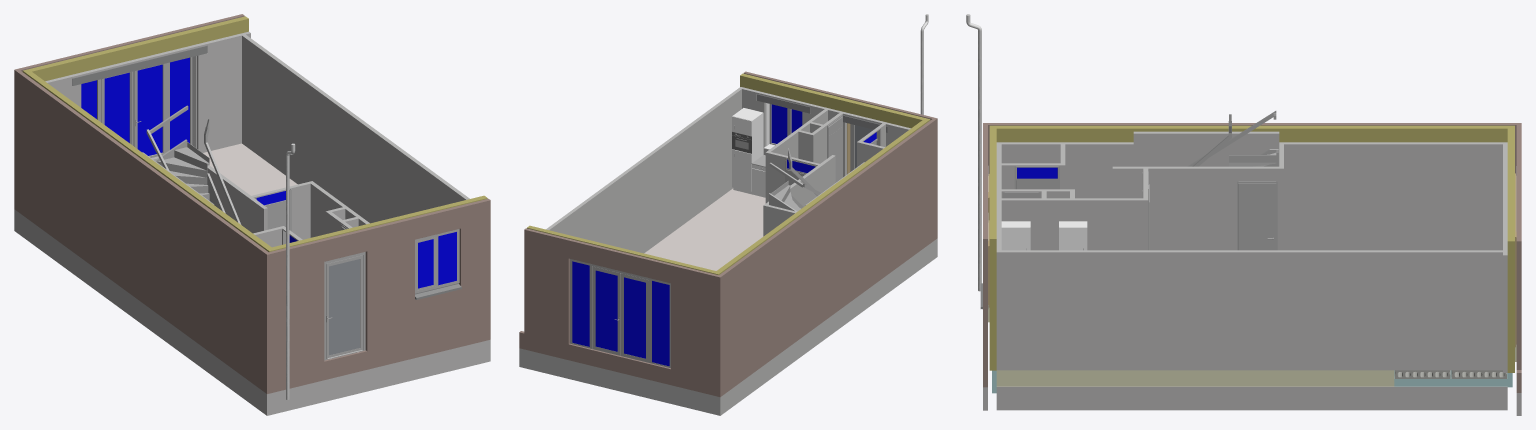
3 renders of one model, left to right at view 1: azimuth 30°, elevation 25°; view 2: azimuth 150°, elevation 25°; view 3: azimuth 270°, elevation 25°, orthographic. The views are drawn at different scales.
Parts seen in each view (by area): view 1: 332240221_metselwerk_oranje_100, 332240121_metselwerk_oranje_100, 332239521_kalkzandsteen_100, 332433321_metselwerk_oranje_100, 332428421_kalkzandsteen_100, 332254521_kalkzandsteen_100, 332255321_kalkzandsteen_100, 332255021_kalkzandsteen_100, 332255621_metselwerk_oranje_100, 332255721_metselwerk_oranje_100, 3324305buitendraaiend_alcoa, 332428621_isolatie_mineraal_150 (+23 smaller); view 2: 332240221_metselwerk_oranje_100, 332239521_kalkzandsteen_100, 332428721_metselwerk_oranje_100, 332449943_zandcementvloer_70, 332433321_metselwerk_oranje_100, 332433921_kalkzandsteen_100, 332433821_metselwerk_oranje_100, 3324305buitendraaiend_alcoa, 332255021_kalkzandsteen_100, 332255721_metselwerk_oranje_100, 332239921_isolatie_mineraal_150, 3324651keukenkast_met_combimagnetron (+23 smaller); view 3: 332239521_kalkzandsteen_100, 332239721_kalkzandsteen_100, 332254521_kalkzandsteen_100, 332433521_kalkzandsteen_100, 332453922_kalkzandsteen_100, 332255121_kalkzandsteen_100, 333394723_kanaalplaatvloer_260, 332454122_kalkzandsteen_100, 332240021_isolatie_mineraal_150, 332436221_kalkzandsteen_100, 3324548opdek, 332433421_isolatie_mineraal_150 (+18 smaller).
Part boxes in pixels (<box>): 332240221_metselwerk_oranje_100: <box>69,109,268,373</box>; 332240121_metselwerk_oranje_100: <box>265,198,490,375</box>; 332239521_kalkzandsteen_100: <box>295,73,469,223</box>; 332433321_metselwerk_oranje_100: <box>16,70,73,230</box>; 332428421_kalkzandsteen_100: <box>45,34,241,152</box>; 332254521_kalkzandsteen_100: <box>242,34,298,181</box>; 332255321_kalkzandsteen_100: <box>265,339,490,415</box>; 332255021_kalkzandsteen_100: <box>69,250,264,413</box>; 332255621_metselwerk_oranje_100: <box>265,321,490,393</box>; 332255721_metselwerk_oranje_100: <box>69,231,264,392</box>; 3324305buitendraaiend_alcoa: <box>104,64,162,155</box>; 332428621_isolatie_mineraal_150: <box>22,18,239,81</box>; 332240221_metselwerk_oranje_100: <box>765,119,935,345</box>; 332239521_kalkzandsteen_100: <box>582,88,741,253</box>; 332428721_metselwerk_oranje_100: <box>532,230,722,381</box>; 332449943_zandcementvloer_70: <box>644,188,765,270</box>; 332433321_metselwerk_oranje_100: <box>719,242,767,379</box>; 332433921_kalkzandsteen_100: <box>519,348,722,415</box>; 332433821_metselwerk_oranje_100: <box>519,331,722,397</box>; 3324305buitendraaiend_alcoa: <box>595,270,645,358</box>; 332255021_kalkzandsteen_100: <box>768,240,935,380</box>; 332255721_metselwerk_oranje_100: <box>768,224,935,361</box>; 332239921_isolatie_mineraal_150: <box>740,73,930,128</box>; 3324651keukenkast_met_combimagnetron: <box>732,108,763,194</box>; 332239521_kalkzandsteen_100: <box>1001,250,1389,370</box>; 332239721_kalkzandsteen_100: <box>1001,131,1389,250</box>; 332254521_kalkzandsteen_100: <box>1389,250,1502,370</box>; 332433521_kalkzandsteen_100: <box>1389,142,1502,250</box>; 332453922_kalkzandsteen_100: <box>1112,166,1283,250</box>; 332255121_kalkzandsteen_100: <box>1001,386,1389,410</box>; 333394723_kanaalplaatvloer_260: <box>996,370,1394,386</box>; 332454122_kalkzandsteen_100: <box>1001,198,1148,250</box>; 332240021_isolatie_mineraal_150: <box>996,125,1394,142</box>; 332436221_kalkzandsteen_100: <box>1389,386,1502,410</box>; 3324548opdek: <box>1238,183,1276,250</box>; 332433421_isolatie_mineraal_150: <box>1394,125,1507,142</box>.
Bounding box in the file's own units: 6.08 × 6.75 × 11.74.
